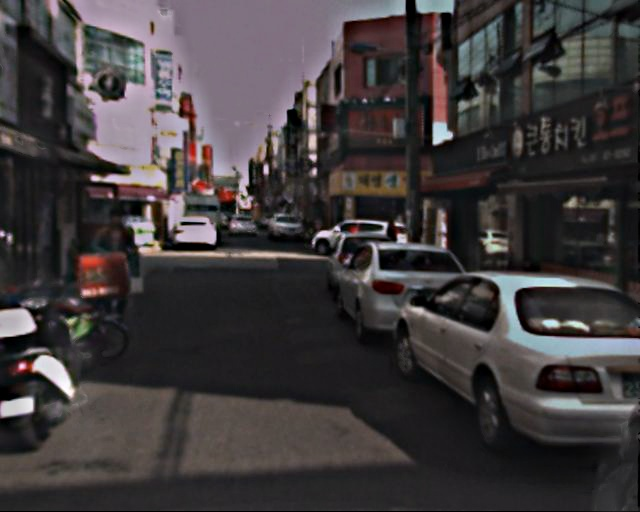person: (90, 206, 149, 332), (386, 219, 402, 259), (346, 220, 362, 259)
